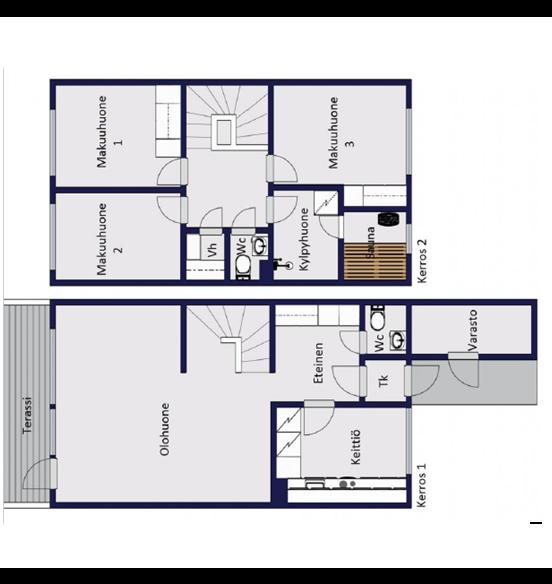bathroom: (359, 303, 407, 359), (230, 231, 270, 282)
door: (20, 454, 57, 494), (300, 396, 336, 437), (446, 349, 482, 389), (402, 360, 439, 398), (330, 362, 368, 398), (264, 149, 301, 183), (263, 192, 300, 224), (154, 193, 188, 226), (155, 154, 187, 186), (198, 204, 226, 238), (336, 328, 368, 356), (230, 204, 258, 236), (316, 214, 344, 241)
perimeter: (48, 298, 539, 506), (48, 79, 412, 286)
stairs: (184, 305, 270, 374), (186, 84, 268, 150)
window: (45, 198, 61, 275), (46, 104, 62, 180), (402, 402, 418, 476), (46, 324, 60, 406), (402, 102, 416, 178), (46, 402, 62, 456), (403, 218, 416, 258)
